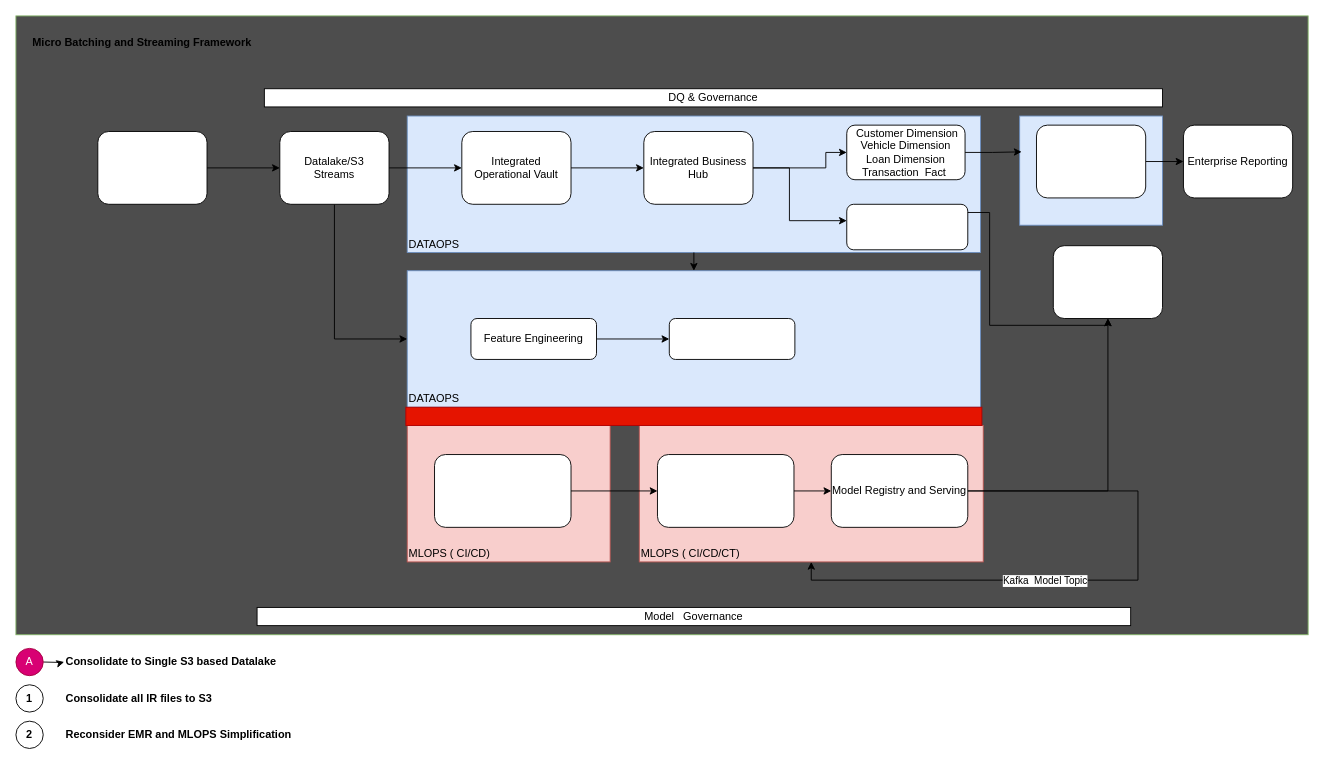
The diagram is 1324 pixels wide and 764 high, and some of its shapes have lost their labels. The shapes that lost their labels are listed below. From the top down, each one's centre as x and y in pixels, then its label:
(x=152, y=167): Data Producers
(x=1091, y=161): Reporting Mart
(x=907, y=226): Materialized View/ Data Contracts
(x=1107, y=281): Consumer Systems
(x=731, y=338): Feature Store
(x=693, y=415): METADATA
(x=502, y=490): Model Development
(x=725, y=490): Model Training / Validation
